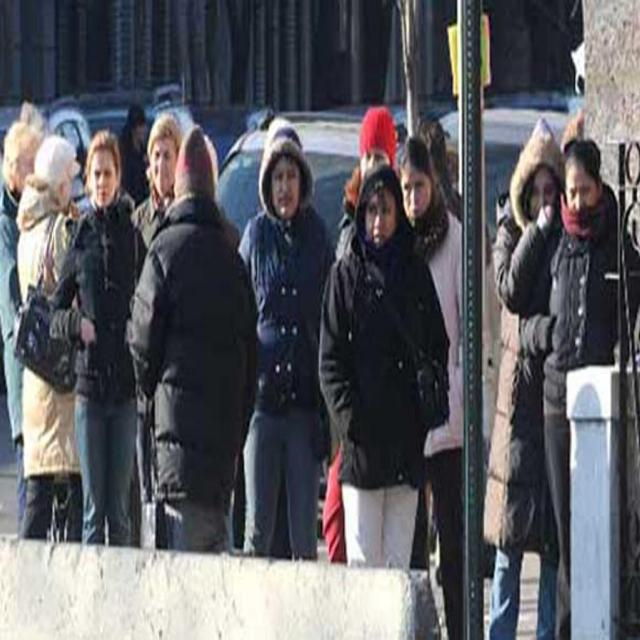nomask: (564, 160, 598, 221), (270, 155, 300, 217), (400, 166, 430, 228), (365, 189, 395, 247), (528, 166, 556, 219), (90, 150, 115, 207), (151, 137, 175, 195), (18, 153, 34, 192)
